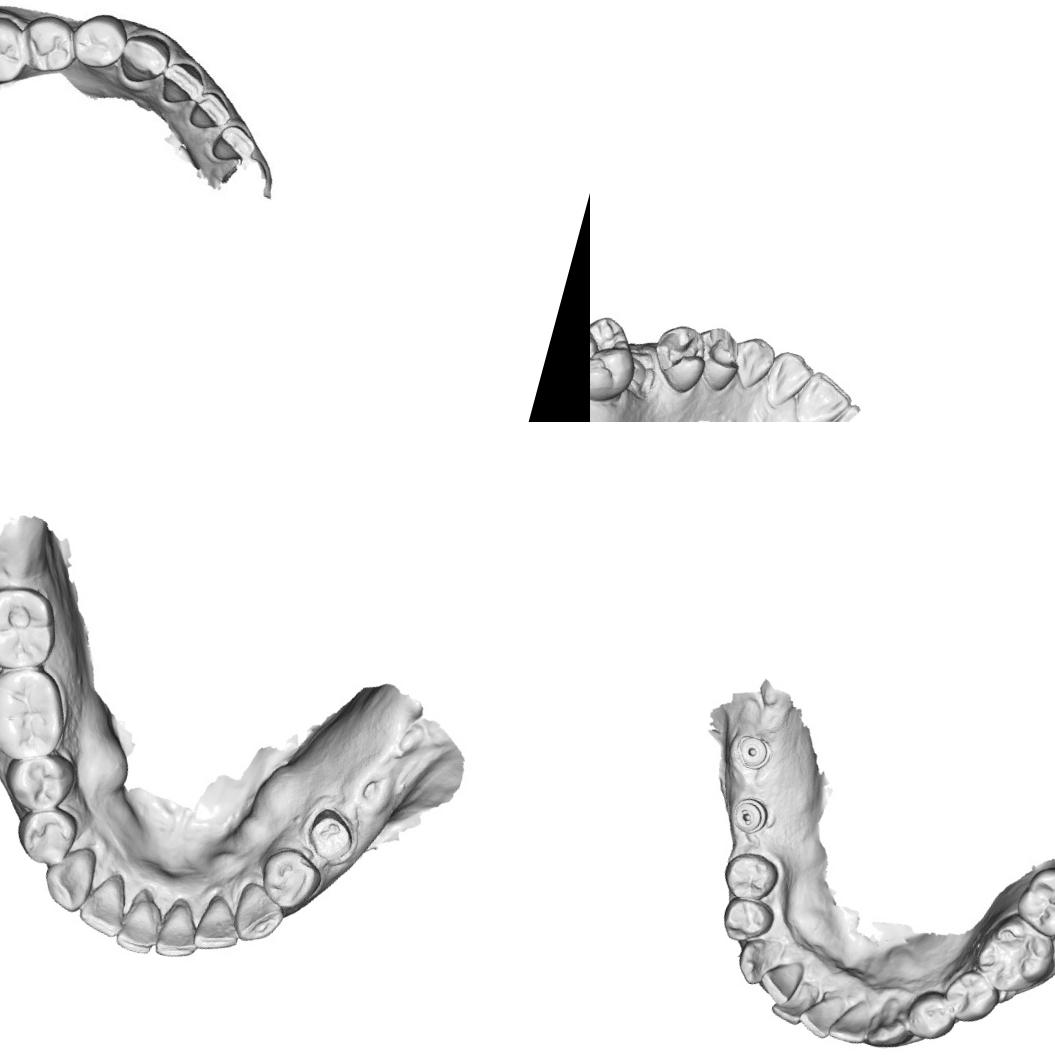canine: (36, 836, 101, 918), (224, 876, 290, 951), (115, 26, 178, 90), (725, 332, 779, 394), (732, 931, 786, 991), (863, 992, 914, 1053)
crown: (300, 802, 363, 870)
implant: (732, 732, 772, 772)
implant_minus: (727, 793, 771, 836)
incisor: (75, 865, 136, 942), (148, 894, 207, 964), (110, 886, 168, 957), (786, 365, 857, 422), (190, 890, 247, 958), (761, 346, 817, 414), (754, 953, 805, 1009), (156, 56, 206, 113), (794, 986, 844, 1042), (825, 993, 874, 1046), (768, 974, 812, 1026), (185, 88, 232, 134), (209, 122, 253, 168)
molar: (0, 655, 79, 772), (970, 906, 1055, 1001), (0, 574, 70, 679), (590, 305, 648, 410), (1010, 859, 1055, 943), (0, 9, 30, 91)
premolar: (0, 742, 79, 821), (8, 798, 84, 872), (252, 842, 326, 918), (644, 318, 714, 396), (686, 321, 748, 395), (938, 964, 1004, 1029), (17, 8, 80, 76), (717, 846, 783, 907), (70, 14, 130, 76), (902, 986, 962, 1046), (717, 892, 777, 948)
